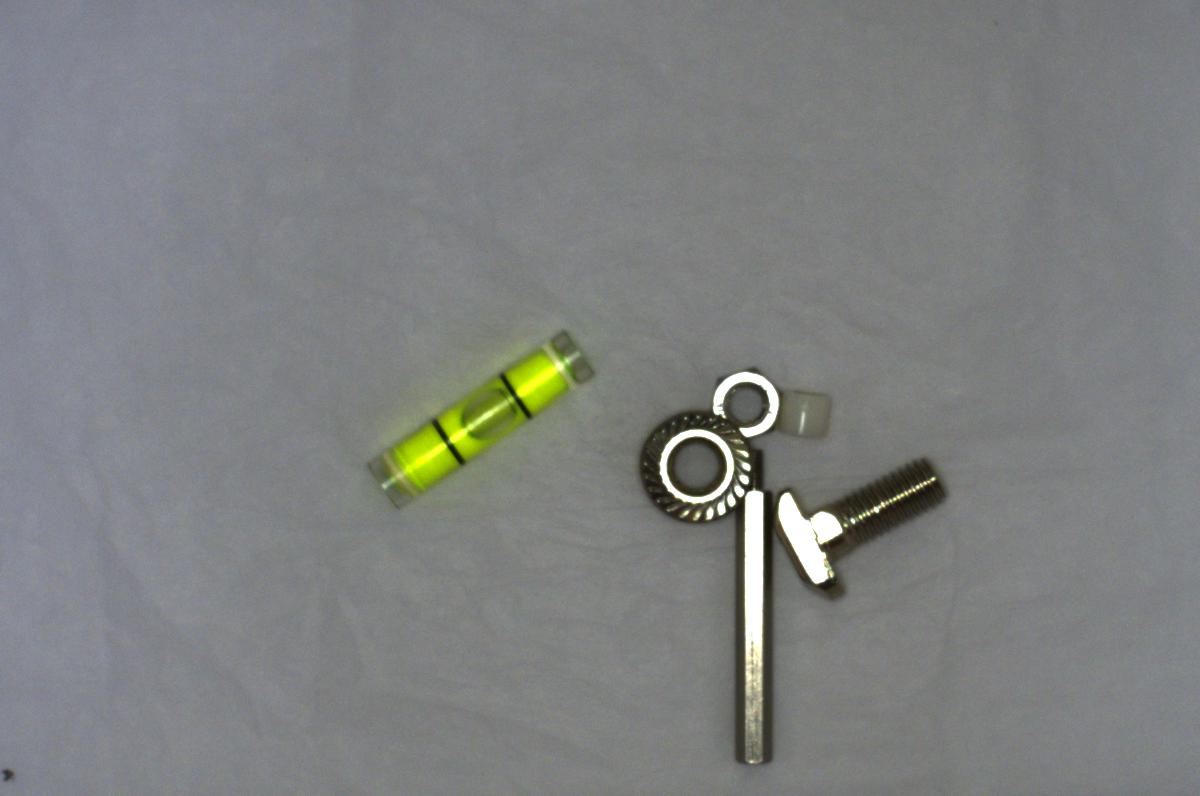Flange nut: (624, 400, 762, 527)
Hexagon nut: (707, 365, 787, 440)
Hexagonal steel column: (738, 453, 775, 771)
Horizontal bubble: (350, 324, 602, 517)
Plastic cushion pillar: (775, 378, 833, 450)
T-shaped screw: (773, 446, 956, 598)
